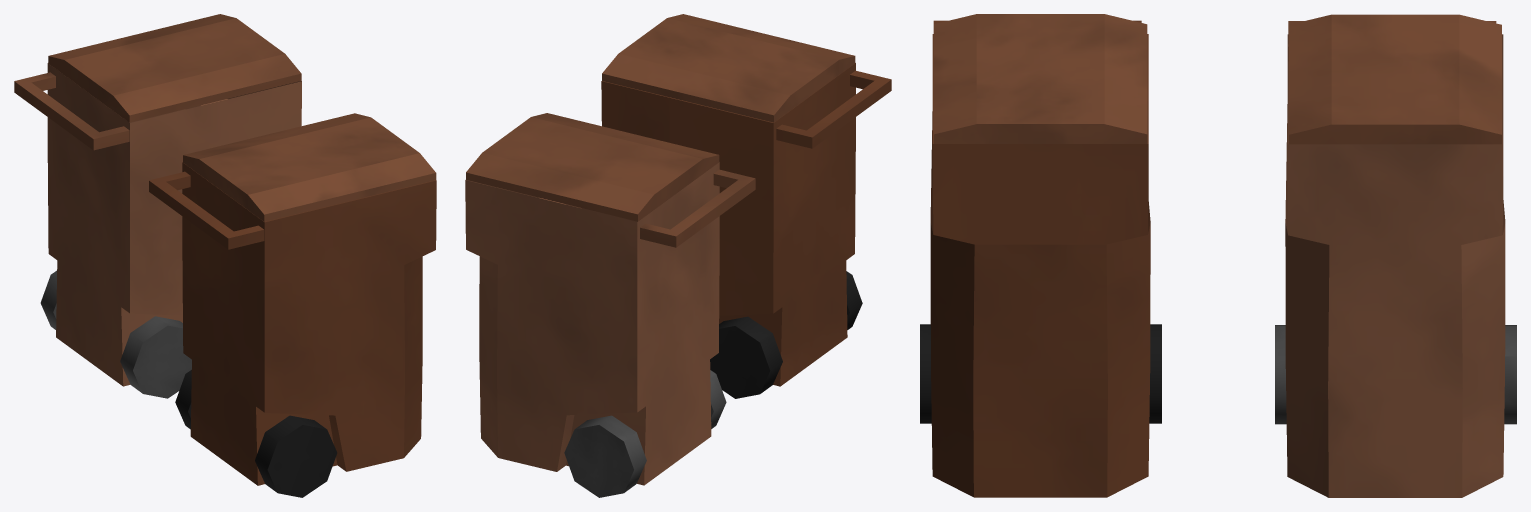
The model's file is SM_TrashBin.fbx.
3 views of the same model, side by side, from view 1: azimuth 30°, elevation 25°; view 2: azimuth 150°, elevation 25°; view 3: azimuth 270°, elevation 25° (orthographic). The views are drawn at different scales.
Visible parts, largest first — view 1: SM_TrashBinOpen, SM_TrashBinClosed, SM_TrashBinLid; view 2: SM_TrashBinClosed, SM_TrashBinOpen, SM_TrashBinLid; view 3: SM_TrashBinClosed, SM_TrashBinOpen, SM_TrashBinLid.
Boxes of the visible parts, x1,y1,x2,y2 form: SM_TrashBinOpen: [149, 162, 436, 497]; SM_TrashBinClosed: [14, 14, 301, 398]; SM_TrashBinLid: [183, 113, 436, 221]; SM_TrashBinClosed: [465, 113, 755, 497]; SM_TrashBinOpen: [601, 63, 891, 398]; SM_TrashBinLid: [602, 14, 855, 122]; SM_TrashBinClosed: [1275, 14, 1516, 497]; SM_TrashBinOpen: [920, 20, 1161, 497]; SM_TrashBinLid: [934, 14, 1147, 143].
Size of the model in its own units: 0.9045 by 1.21 by 1.69.
